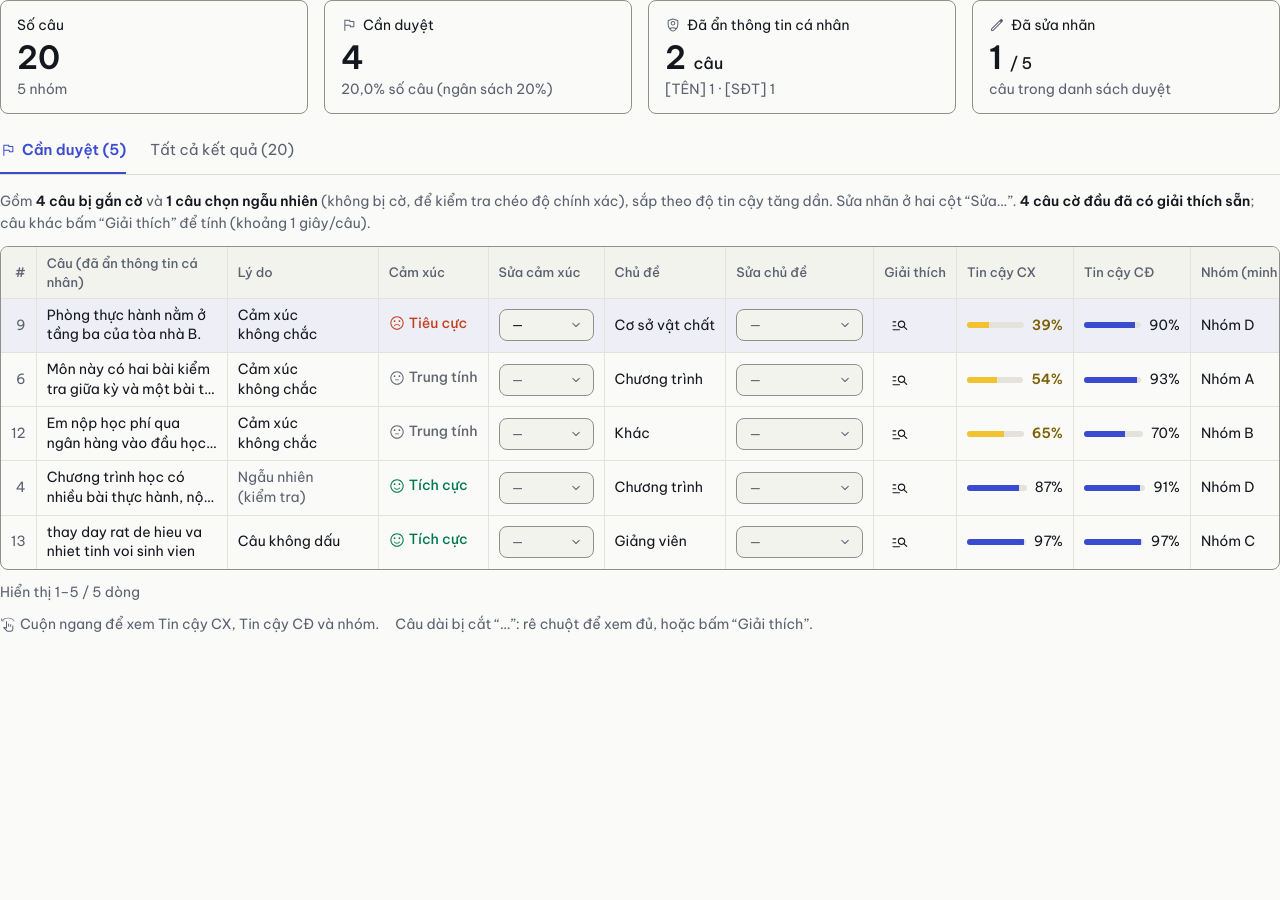
Scenario: ResultsSection (dữ liệu thật) › nhãn đã sửa được đếm và hiện ở cột Đã sửa của tab Tất cả
Step 1. Click the tab "Tất cả kết quả (20)" → click(222, 152), box [150,130,294,175]
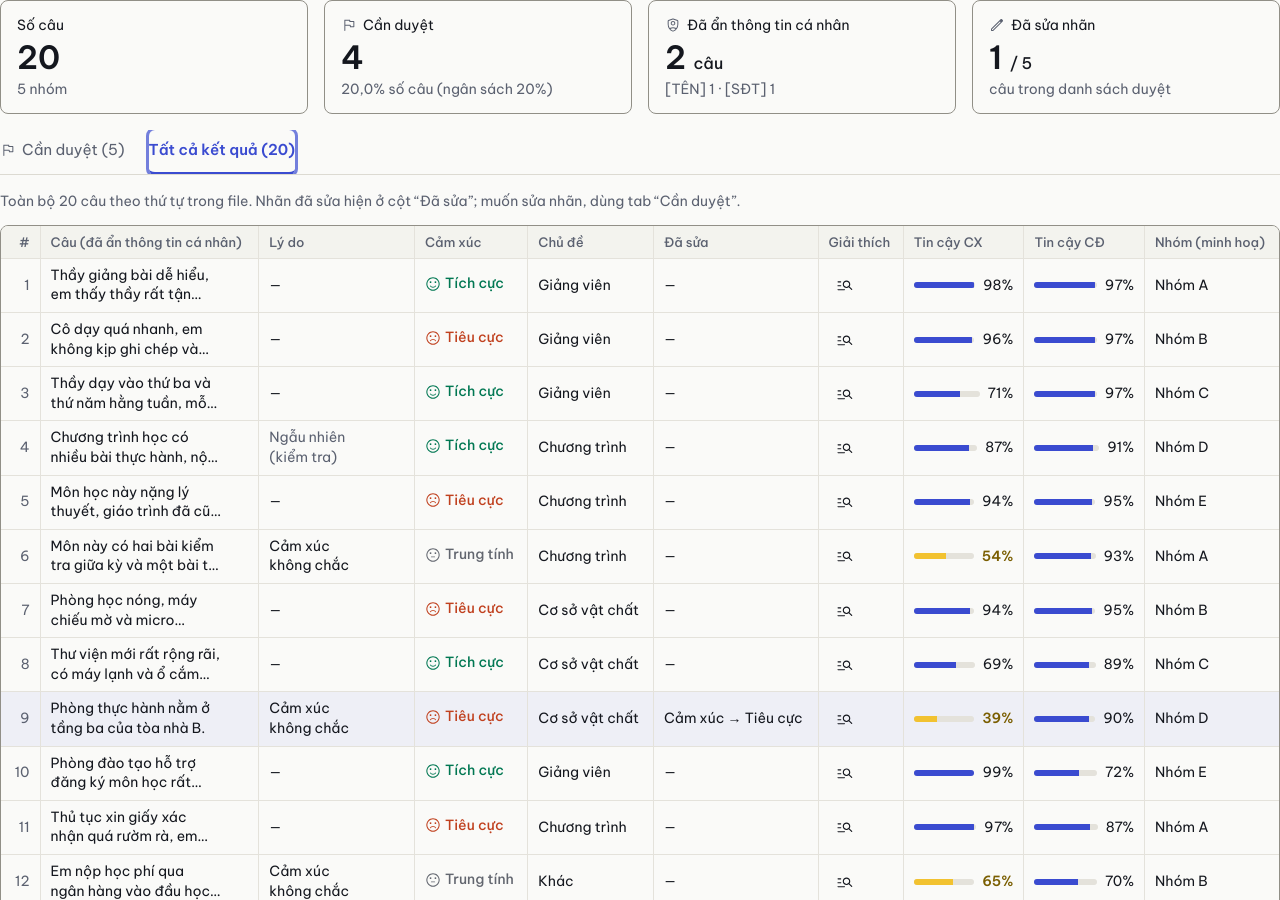
Now the text "Cảm xúc → Tiêu cực" is shown, box [654,692,819,747]
